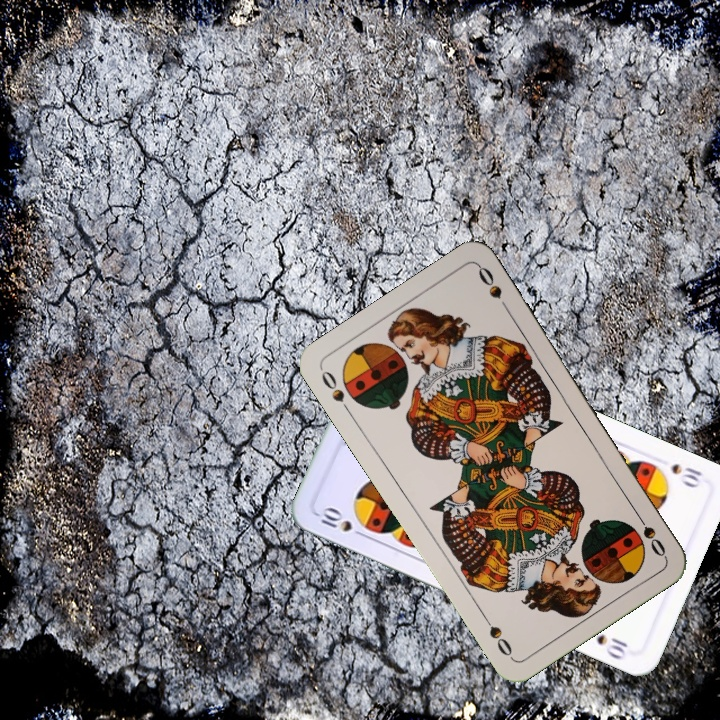S10: (316, 504, 369, 541), (667, 459, 705, 491)
SO: (630, 506, 669, 560), (317, 366, 355, 418)
